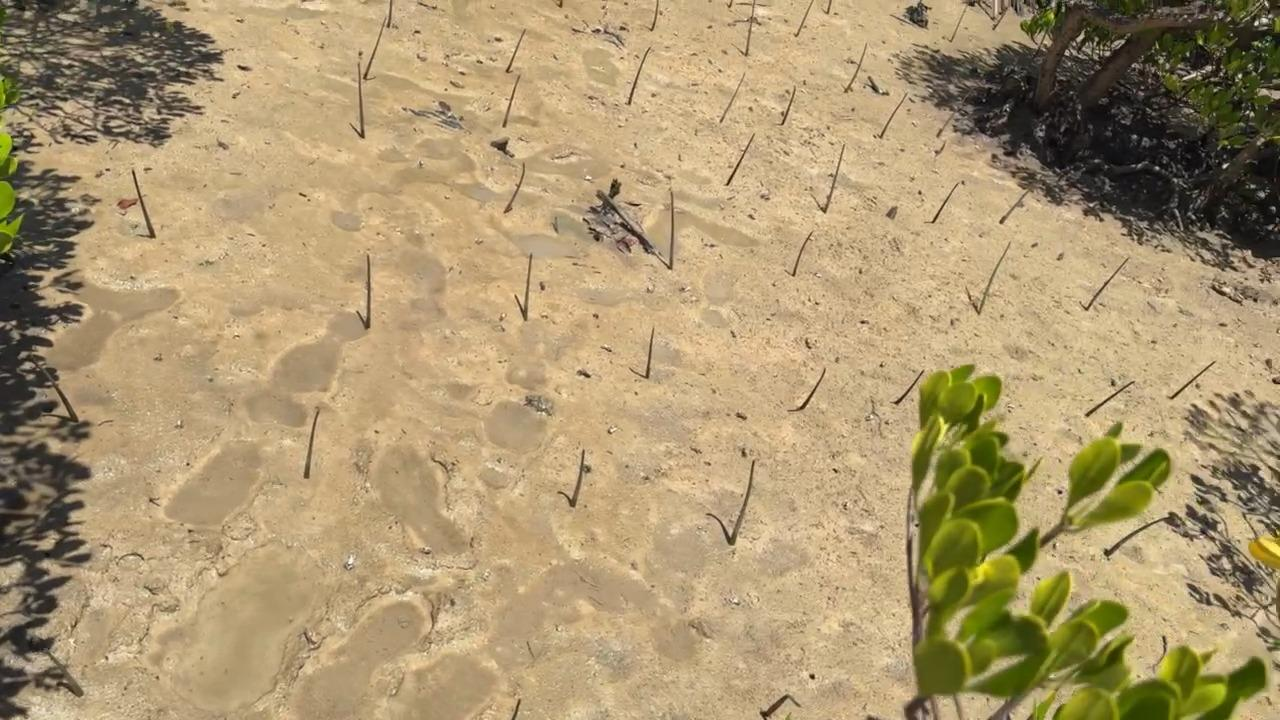Tree: (29, 356, 80, 423), (1105, 515, 1171, 556), (978, 241, 1012, 314), (1085, 257, 1131, 309), (728, 460, 755, 545), (937, 84, 976, 137), (42, 648, 84, 696), (1085, 380, 1134, 417), (132, 170, 156, 238), (1172, 362, 1216, 398), (726, 133, 755, 186), (363, 17, 387, 79), (823, 145, 845, 212), (628, 45, 651, 104), (720, 72, 746, 121), (881, 93, 909, 137), (845, 42, 868, 91), (303, 410, 319, 479), (931, 183, 959, 222), (1000, 189, 1031, 224), (800, 369, 827, 409), (504, 163, 525, 214), (895, 370, 925, 405), (502, 74, 521, 128), (761, 695, 803, 718), (792, 231, 813, 275), (506, 28, 526, 72), (571, 448, 585, 507), (524, 254, 534, 322), (796, 0, 814, 37), (745, 0, 756, 56), (781, 85, 797, 123), (950, 6, 966, 41), (358, 62, 365, 138), (646, 328, 655, 378), (365, 255, 371, 329), (670, 192, 675, 268), (993, 9, 1008, 30), (512, 698, 523, 720), (651, 0, 658, 31), (386, 0, 393, 27), (826, 0, 831, 13)
